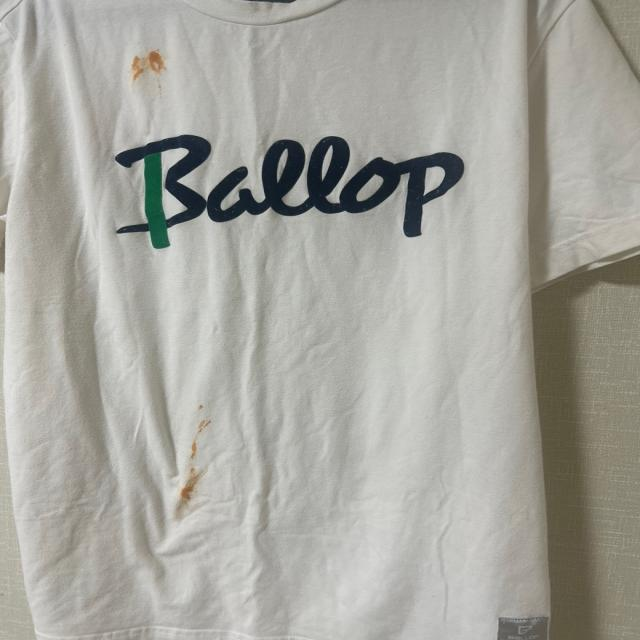stain: (182, 409, 218, 506), (115, 51, 168, 83), (194, 403, 208, 417)
